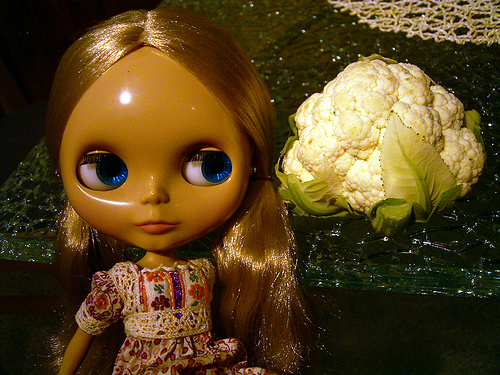cauliflower: (278, 55, 486, 213)
